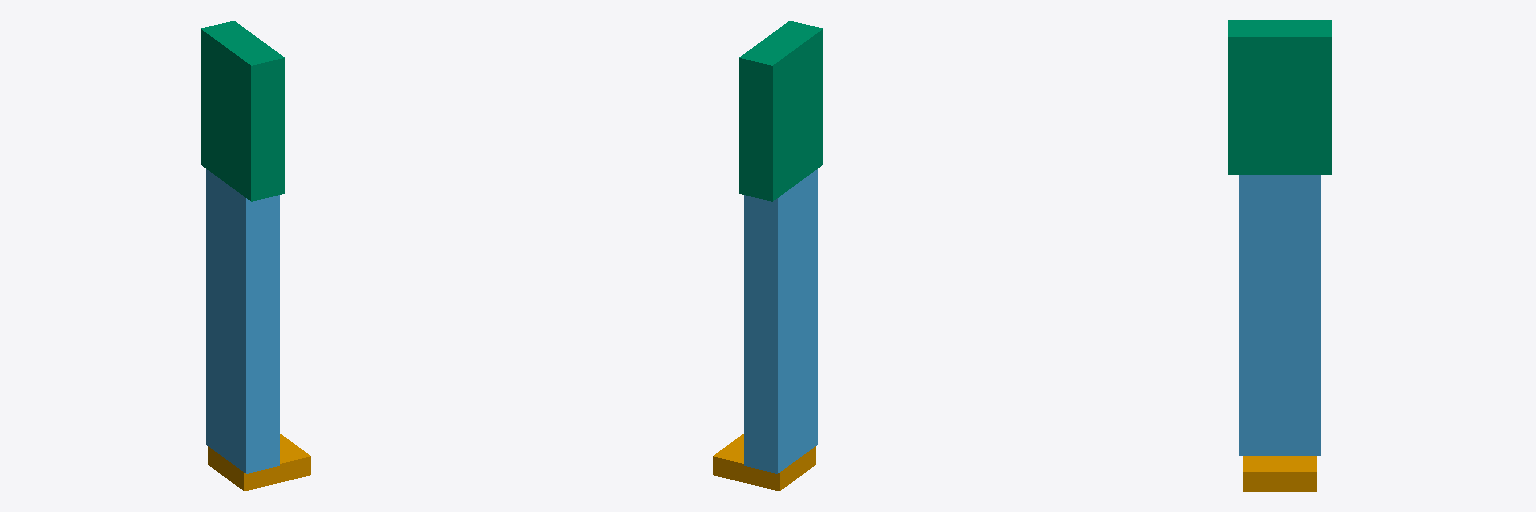
robot.urdf — threeLinkHuman_subject6:
<robot name="threeLinkHuman_subject6">
    <link name="foot">
        <inertial>
            <mass value="4.0414"/>
            <origin xyz="0 0 0.030591" rpy="0 0 0" />
            <inertia ixx="0.016806" iyy="0.018636" izz="0.03292" ixy="0" ixz="0" iyz="0"/>
        </inertial>

        <visual>
			<origin xyz="0 0 0.030591" rpy="0 0 0" />
            <geometry>
                <box size="0.22714 0.21484 0.061183"/>
            </geometry>
        </visual>

        <collision>
			<origin xyz="0 0 0.030591" rpy="0 0 0" />
            <geometry>
                <box size="0.22714 0.21484 0.061183"/>
            </geometry>
        </collision>
    </link>
    
    <link name="leg">
        <inertial>
            <mass value="32.706"/>
            <origin xyz="0 0 0.44653" rpy="0 0 0" />
            <inertia ixx="2.3284" iyy="2.2089" izz="0.18984" ixy="0" ixz="0" iyz="0"/>
        </inertial>

        <visual>
            <origin xyz="0 0 0.44653" rpy="0 0 0" />
            <geometry>
                <box size="0.11357 0.23824 0.89305"/>
            </geometry>
        </visual>

        <collision>
            <origin xyz="0 0 0.44653" rpy="0 0 0" />
            <geometry>
                <box size="0.11357 0.23824 0.89305"/>
            </geometry>
        </collision>
    </link>
    
    <link name="torso">
        <inertial>
            <mass value="20.1767"/>
            <origin xyz="0 0 0.22005" rpy="0 0 0" />
            <inertia ixx="0.47522" iyy="0.34736" izz="0.17123" ixy="0" ixz="0" iyz="0"/>
        </inertial>

        <visual>
            <origin xyz="0 0 0.22005" rpy="0 0 0" />
            <geometry>
                <box size="0.11357 0.29823 0.44011"/>
            </geometry>
        </visual>

        <collision>
            <origin xyz="0 0 0.22005" rpy="0 0 0" />
            <geometry>
                <box size="0.11357 0.29823 0.44011"/>
            </geometry>
        </collision>
    </link>
        
    <joint name="ankle" type="revolute">
        <origin xyz="-0.056785 0 0.061183" rpy="0 0 0"/>
        <parent link="foot"/>
        <child link="leg"/>
        <dynamics damping="0.1" friction="0.0"/>
        <limit effort="30" velocity="1.0" lower="-10.0" upper="10.0" />
        <axis xyz="0 1 0" />
    </joint>
    
    <joint name="hip" type="revolute">
        <origin xyz="0 0 0.89305" rpy="0 0 0"/>
        <parent link="leg"/>
        <child link="torso"/>
        <dynamics damping="0.1" friction="0.0"/>
        <limit effort="30" velocity="1.0" lower="-10.0" upper="10.0" />
        <axis xyz="0 1 0" />
    </joint>

</robot>

--- What the picture shows (computed from the rendered views, not written in the file) ---
3 views of the same robot in one strip: view 1: azimuth 30°, elevation 25°; view 2: azimuth 150°, elevation 25°; view 3: azimuth 270°, elevation 25° (orthographic).
Robot: threeLinkHuman_subject6 — 3 links, 2 joints (2 revolute); root link foot; default pose: all joints at 0.
Links seen in each view (by area): view 1: leg, torso, foot; view 2: leg, torso, foot; view 3: leg, torso, foot.
Boxes of the visible links, bbox=[...] form: leg: bbox=[206, 169, 279, 473]; torso: bbox=[201, 21, 284, 201]; foot: bbox=[208, 434, 310, 490]; leg: bbox=[744, 169, 817, 473]; torso: bbox=[739, 21, 822, 201]; foot: bbox=[713, 434, 815, 490]; leg: bbox=[1239, 175, 1320, 455]; torso: bbox=[1228, 20, 1331, 174]; foot: bbox=[1243, 456, 1316, 491].
Size in the robot's own frame: 0.2271 by 0.2982 by 1.39 metres.
Geometry: primitives only (box / cylinder / sphere), no mesh files.
